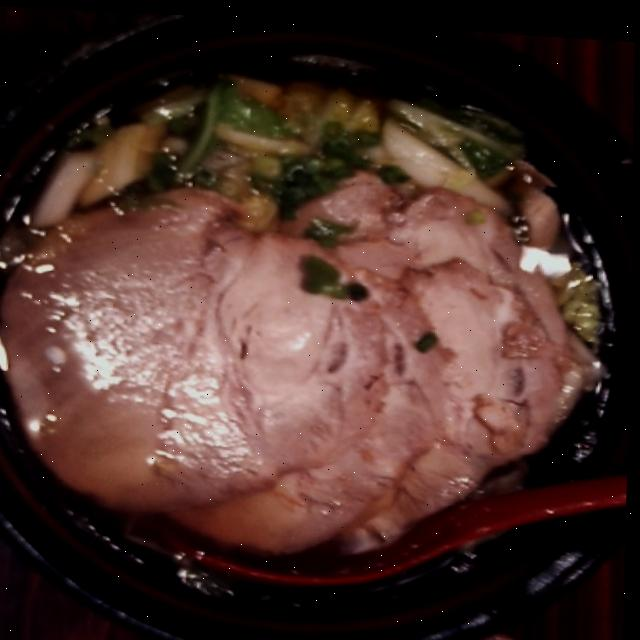面条主食: (0, 27, 604, 629)
